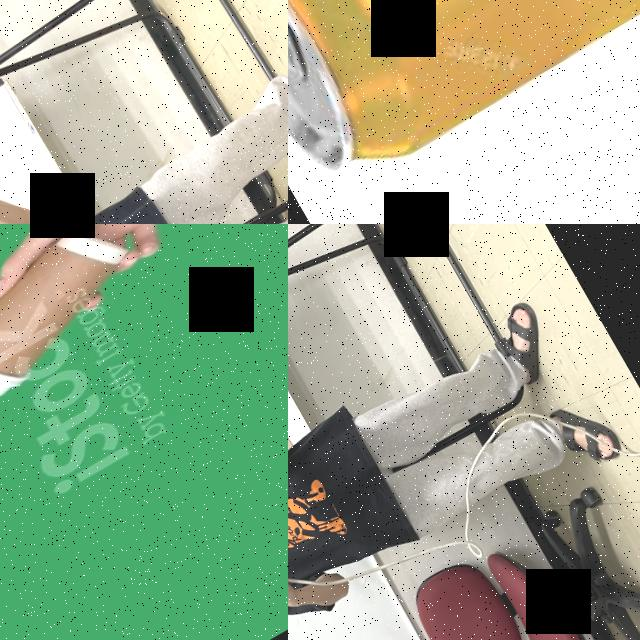can: (288, 0, 640, 207)
cup: (0, 224, 161, 424)
